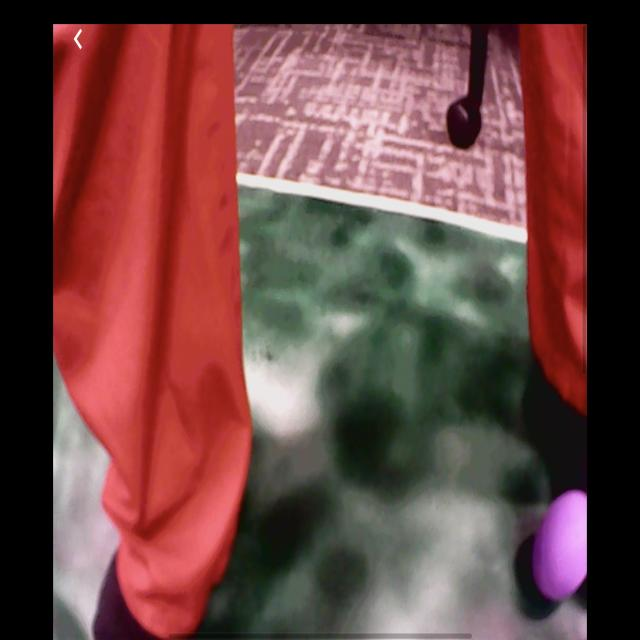ball: (531, 491, 589, 605)
